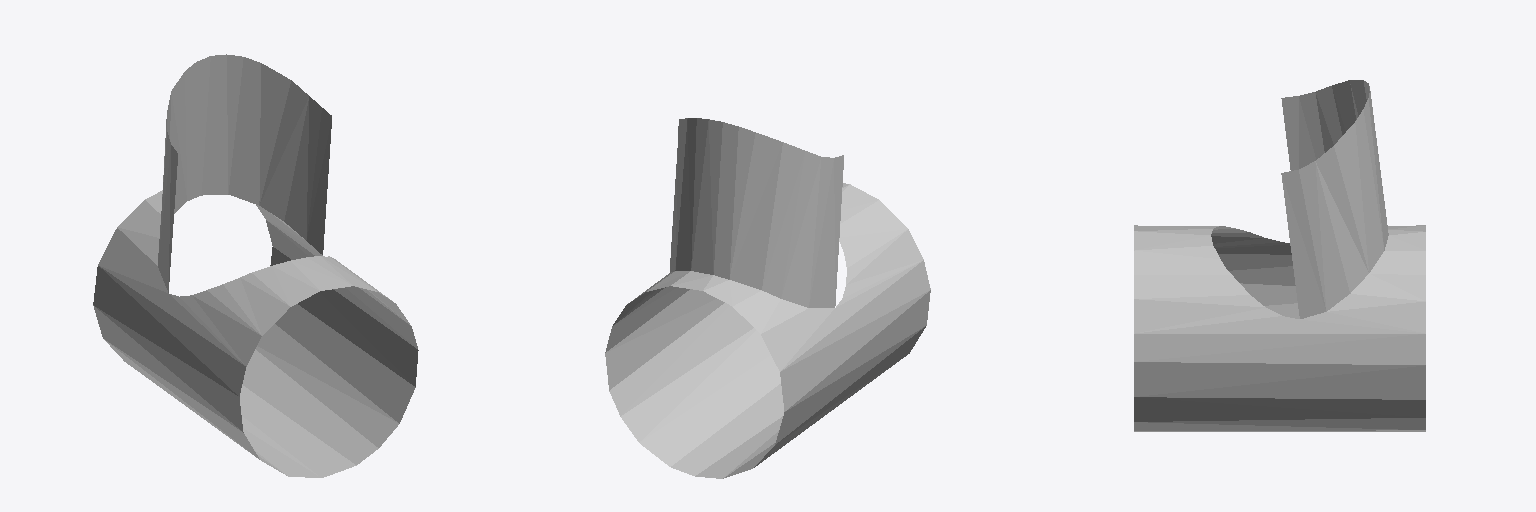
Rendered from cylinder_in_clean.obj.
3 renders of one model, left to right at view 1: azimuth 30°, elevation 25°; view 2: azimuth 150°, elevation 25°; view 3: azimuth 270°, elevation 25°, orthographic.
Parts seen in each view (by area): view 1: Cylinder.002; view 2: Cylinder.002; view 3: Cylinder.002.
Part boxes in pixels (bbox=[...]): Cylinder.002: bbox=[93, 54, 418, 477]; Cylinder.002: bbox=[605, 118, 930, 478]; Cylinder.002: bbox=[1134, 80, 1425, 431].
Bounding box in the file's own units: 2.33 × 4.15 × 3.29.